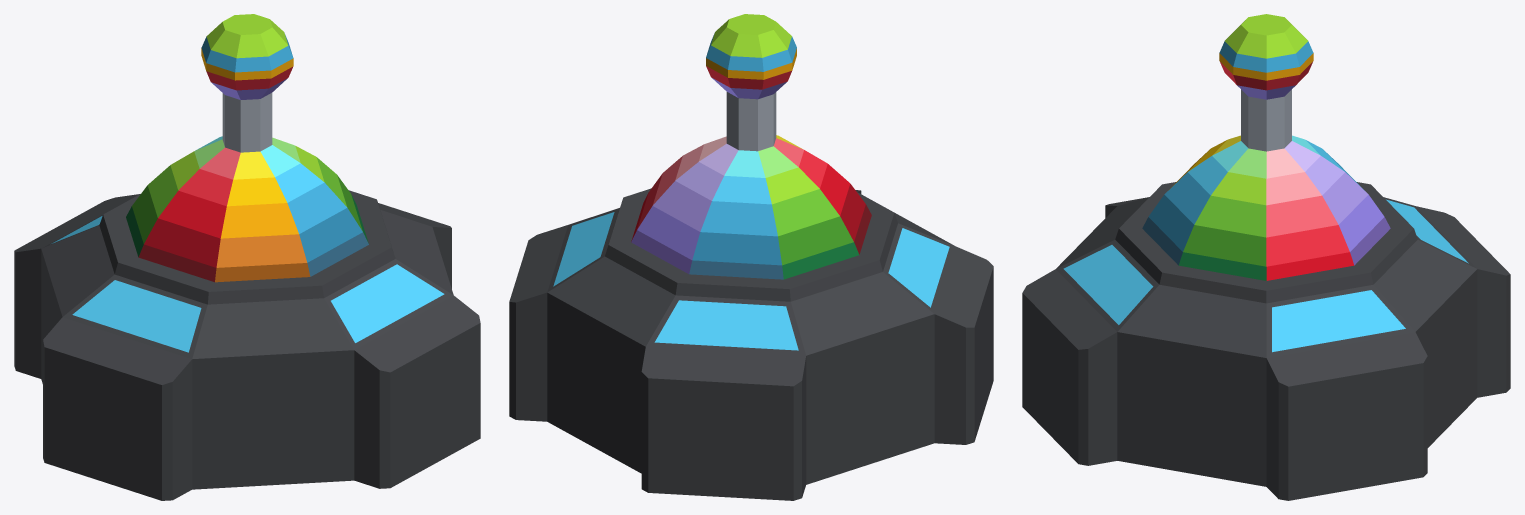
Rendered from Slot_4.fbx.
The picture shows the model from 3 angles, left to right: view 1: azimuth 30°, elevation 25°; view 2: azimuth 150°, elevation 25°; view 3: azimuth 270°, elevation 25°; orthographic projection.
Visible parts, largest first — view 1: Slot_4; view 2: Slot_4; view 3: Slot_4.
Part boxes in pixels (box(x1,y1,x2,y2)): Slot_4: box(14, 14, 480, 500); Slot_4: box(509, 14, 993, 500); Slot_4: box(1022, 14, 1510, 500).
Size of the model in its own units: 269 by 227 by 269.
